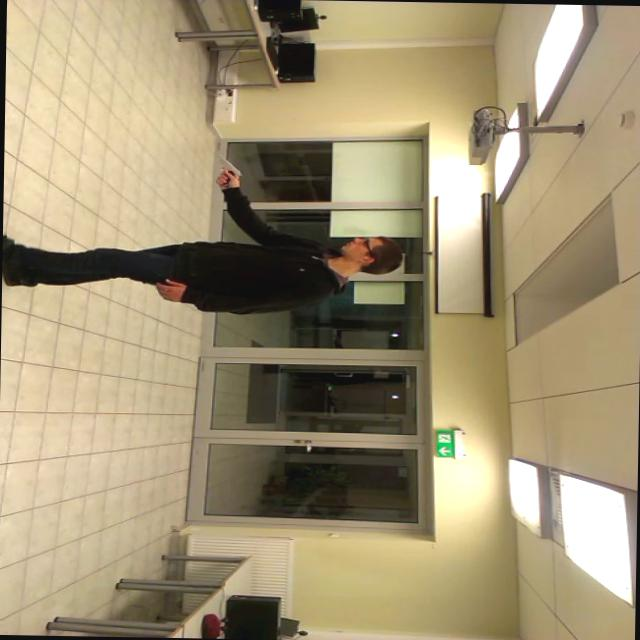handgun: (196, 152, 249, 192)
